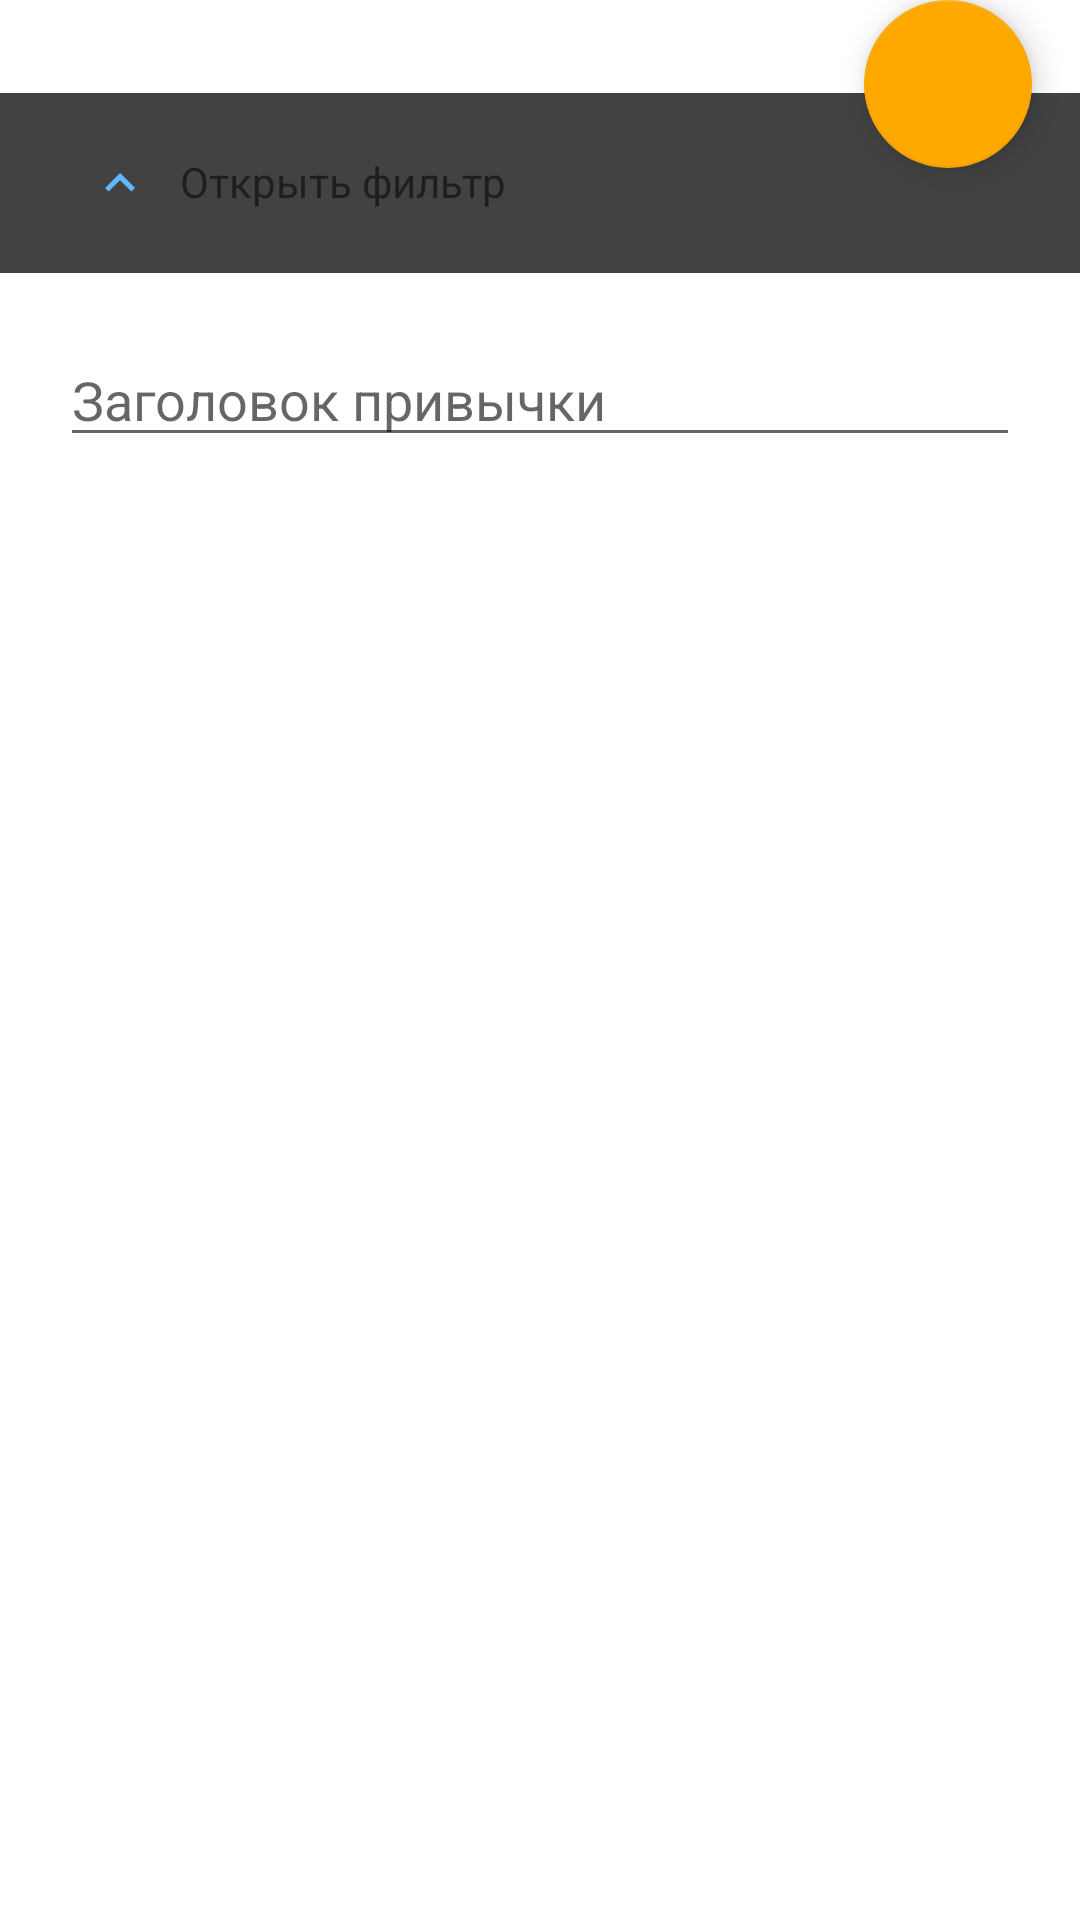

Locate icon controls on the screen. Image size 1080×1920, boxes as (x1, y1, x2, y2).
Arrow up: (105, 173, 135, 192)
